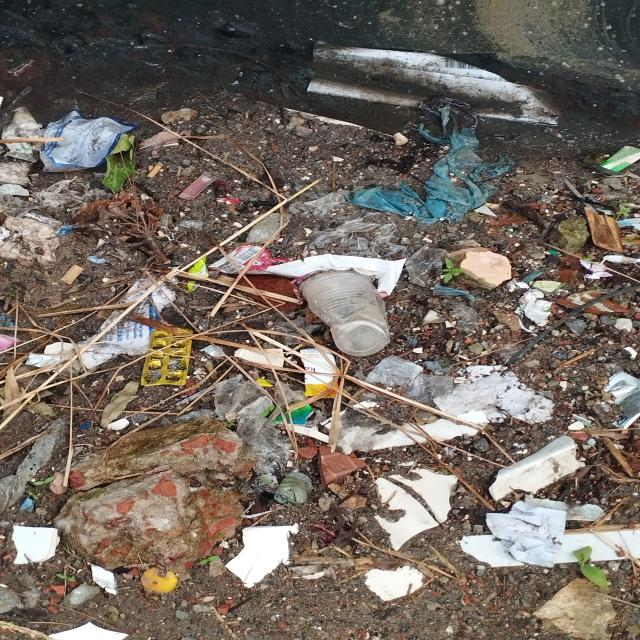plastic: (300, 268, 391, 356)
